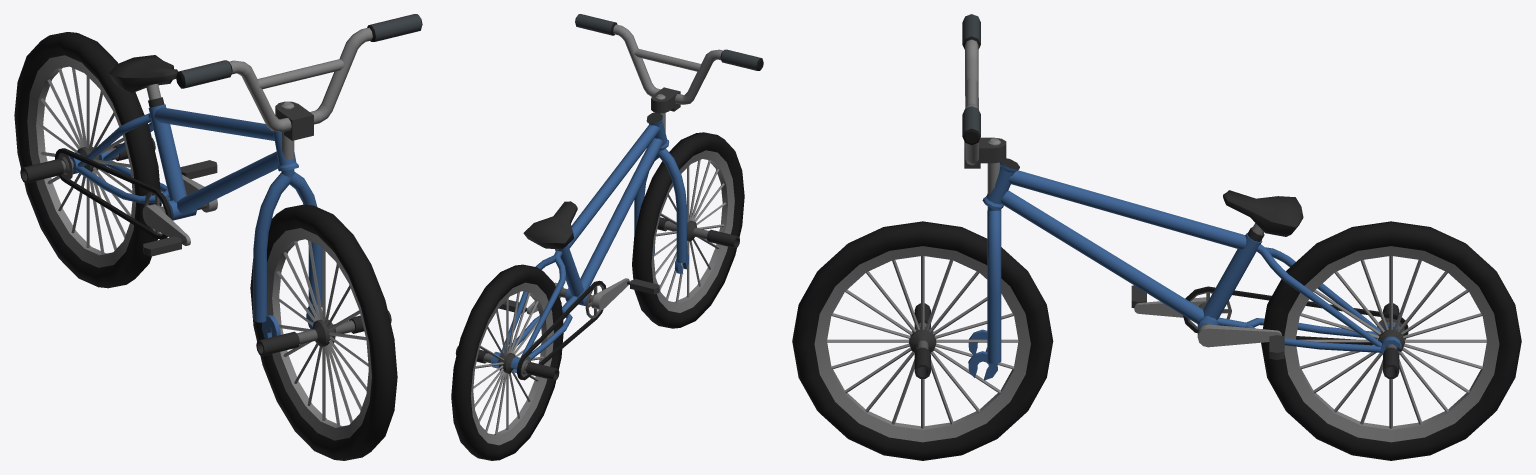
The model's file is SM_Vehicles_ Bike_02_V1.fbx.
3 renders of one model, left to right at view 1: azimuth 30°, elevation 25°; view 2: azimuth 150°, elevation 25°; view 3: azimuth 270°, elevation 25°, orthographic. The views are drawn at different scales.
Visible parts, largest first — view 1: SM_Vehicles_ Bike_02_F, SM_Vehicles_ Bike_02_B, SM_Vehicles_ Bike_02_V1, SM_Vehicles_ Bike_02_V1_Steering_Wheel, SM_Vehicles_ Bike_02_Pedals; view 2: SM_Vehicles_ Bike_02_B, SM_Vehicles_ Bike_02_F, SM_Vehicles_ Bike_02_V1, SM_Vehicles_ Bike_02_V1_Steering_Wheel, SM_Vehicles_ Bike_02_Pedals; view 3: SM_Vehicles_ Bike_02_F, SM_Vehicles_ Bike_02_B, SM_Vehicles_ Bike_02_V1, SM_Vehicles_ Bike_02_V1_Steering_Wheel, SM_Vehicles_ Bike_02_Pedals.
Part boxes in pixels (box(x1,y1,x2,y2)): SM_Vehicles_ Bike_02_F: box(250, 204, 397, 460); SM_Vehicles_ Bike_02_B: box(14, 32, 161, 288); SM_Vehicles_ Bike_02_V1: box(55, 55, 298, 239); SM_Vehicles_ Bike_02_V1_Steering_Wheel: box(176, 14, 422, 338); SM_Vehicles_ Bike_02_Pedals: box(142, 160, 217, 256); SM_Vehicles_ Bike_02_B: box(451, 264, 563, 460); SM_Vehicles_ Bike_02_F: box(632, 132, 744, 328); SM_Vehicles_ Bike_02_V1: box(490, 112, 668, 380); SM_Vehicles_ Bike_02_V1_Steering_Wheel: box(575, 14, 763, 273); SM_Vehicles_ Bike_02_Pedals: box(498, 278, 659, 318); SM_Vehicles_ Bike_02_F: box(792, 221, 1053, 460); SM_Vehicles_ Bike_02_B: box(1261, 221, 1521, 460); SM_Vehicles_ Bike_02_V1: box(982, 158, 1408, 354); SM_Vehicles_ Bike_02_V1_Steering_Wheel: box(962, 14, 1006, 380); SM_Vehicles_ Bike_02_Pedals: box(1131, 285, 1284, 359).
Size of the model in its own units: 0.6374 by 0.9942 by 1.69.
